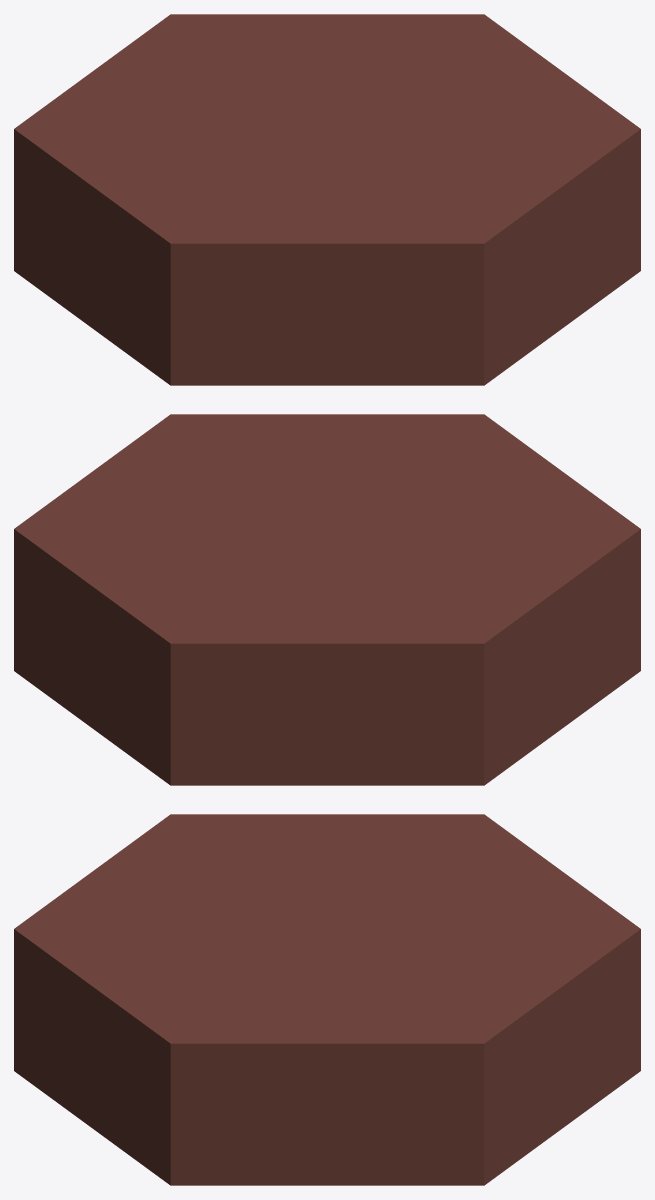
File: HexCell_Ground_1.glb
3 views of the same model, one above another, from view 1: azimuth 30°, elevation 25°; view 2: azimuth 150°, elevation 25°; view 3: azimuth 270°, elevation 25° (orthographic).
Visible parts, largest first — view 1: Ground; view 2: Ground; view 3: Ground.
Part boxes in pixels (box(x1,y1,x2,y2)): Ground: box(14, 14, 640, 385); Ground: box(14, 414, 640, 785); Ground: box(14, 814, 640, 1185).
Size of the model in its own units: 1.73 by 0.5 by 2.
